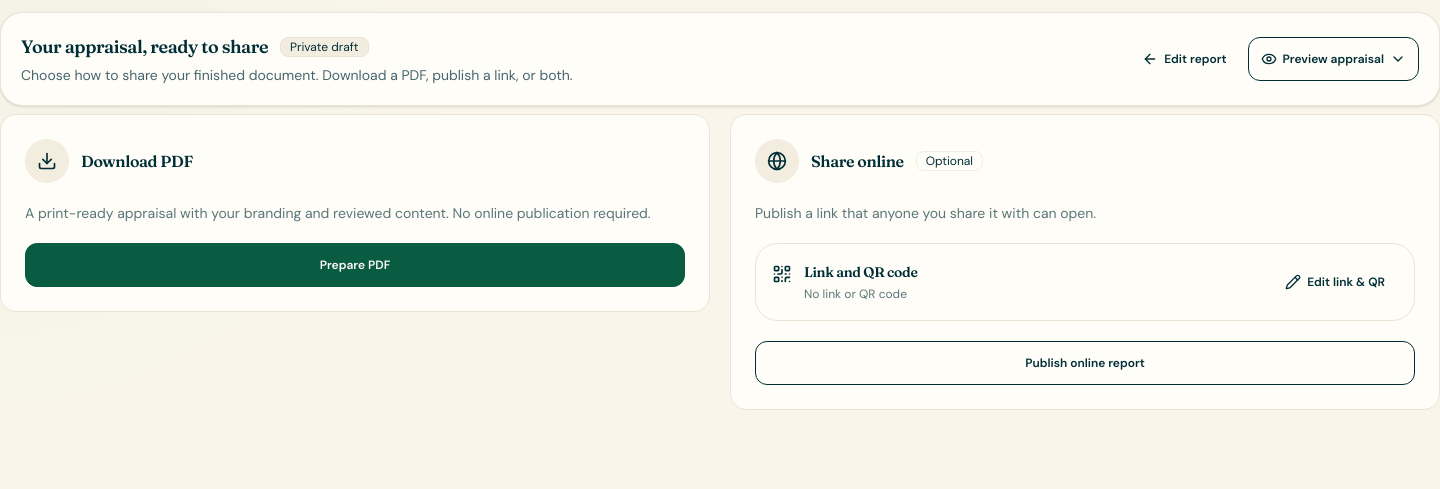
Test: appraisal delivery › allows retry after a PDF network failure and exposes the download only when ready
Click the button "Prepare PDF". click: [355, 265]
box: [25,243,685,287]
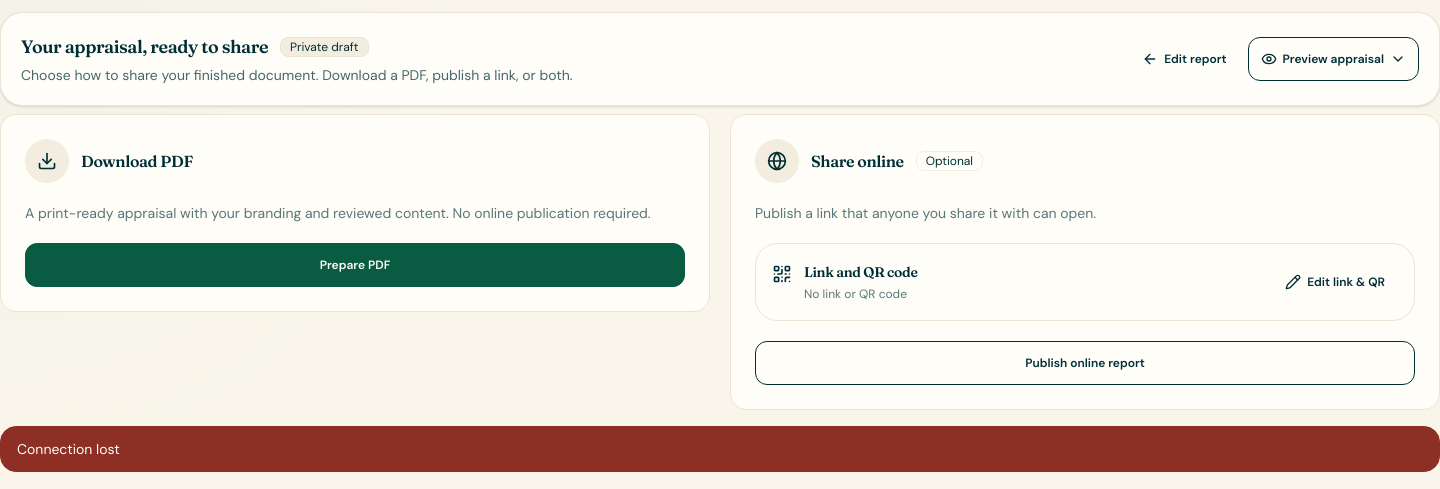
Result: the message "Connection lost" is shown at [0,426,1439,472]
Click the button "Prepare PDF". click: [355, 265]
box: [25,243,685,287]
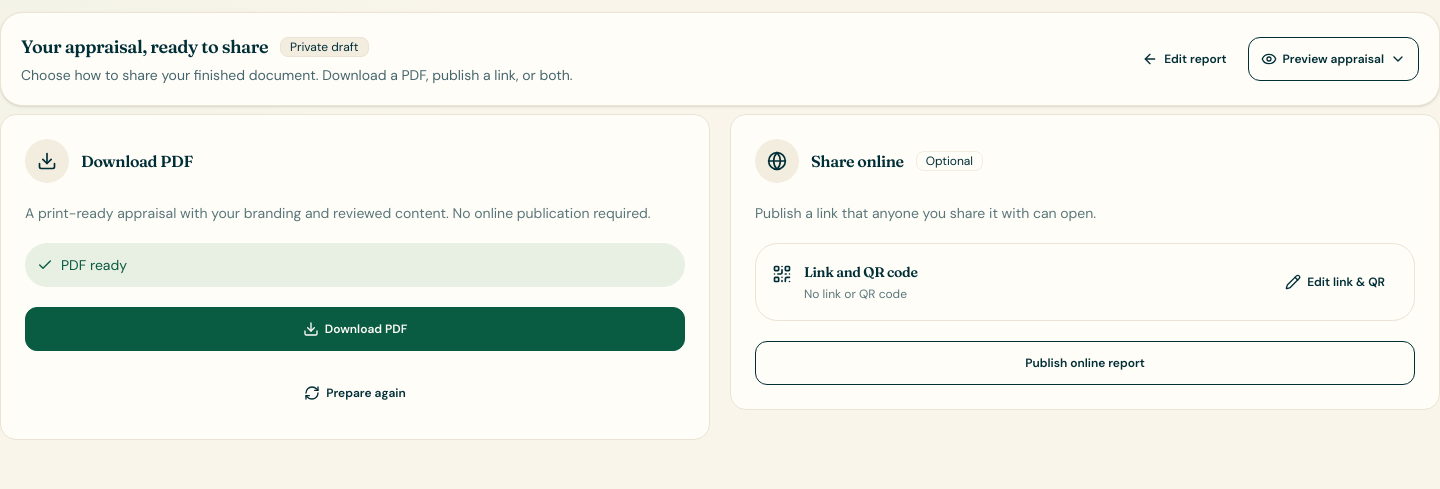
Result: the link "Download PDF" is shown at [25,307,685,351]
